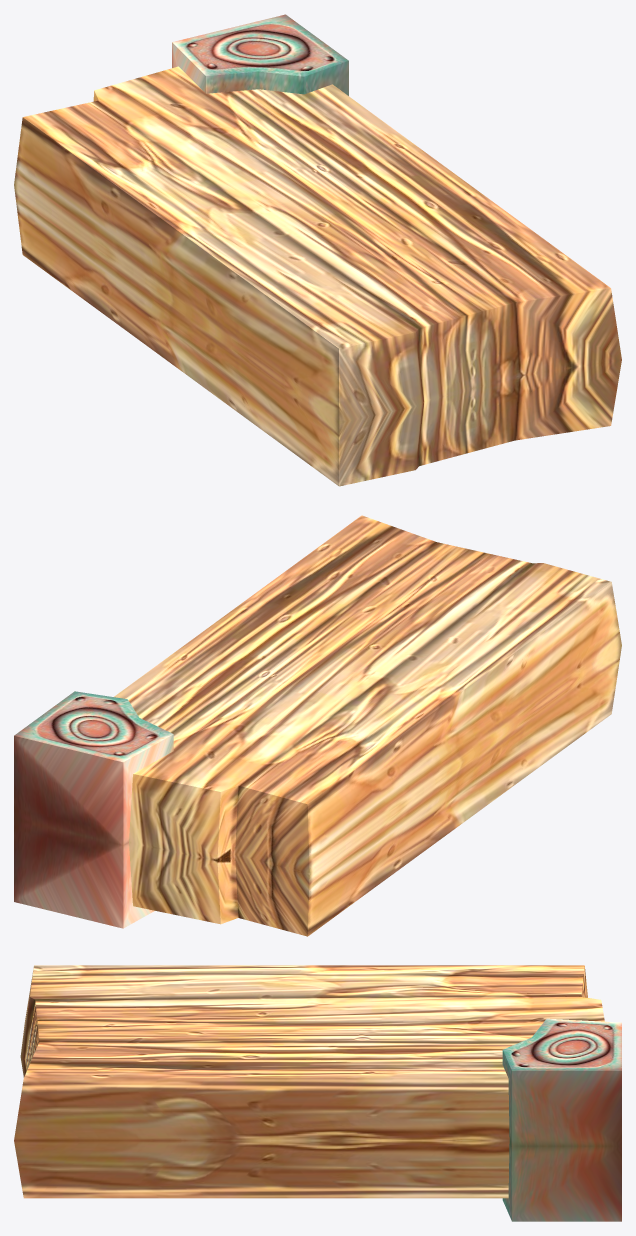
3 renders of one model, top to bottom at view 1: azimuth 30°, elevation 25°; view 2: azimuth 150°, elevation 25°; view 3: azimuth 270°, elevation 25°, orthographic. The views are drawn at different scales.
Visible parts, largest first — view 1: PlankA-Thick; view 2: PlankA-Thick; view 3: PlankA-Thick.
Boxes of the visible parts, x1,y1,x2,y2 form: PlankA-Thick: [14, 14, 621, 486]; PlankA-Thick: [14, 515, 621, 936]; PlankA-Thick: [14, 965, 621, 1221].
Size of what is drawn, in the model's own units: 0.9912 by 0.5657 by 2.07.
1 material, 1 textured.
